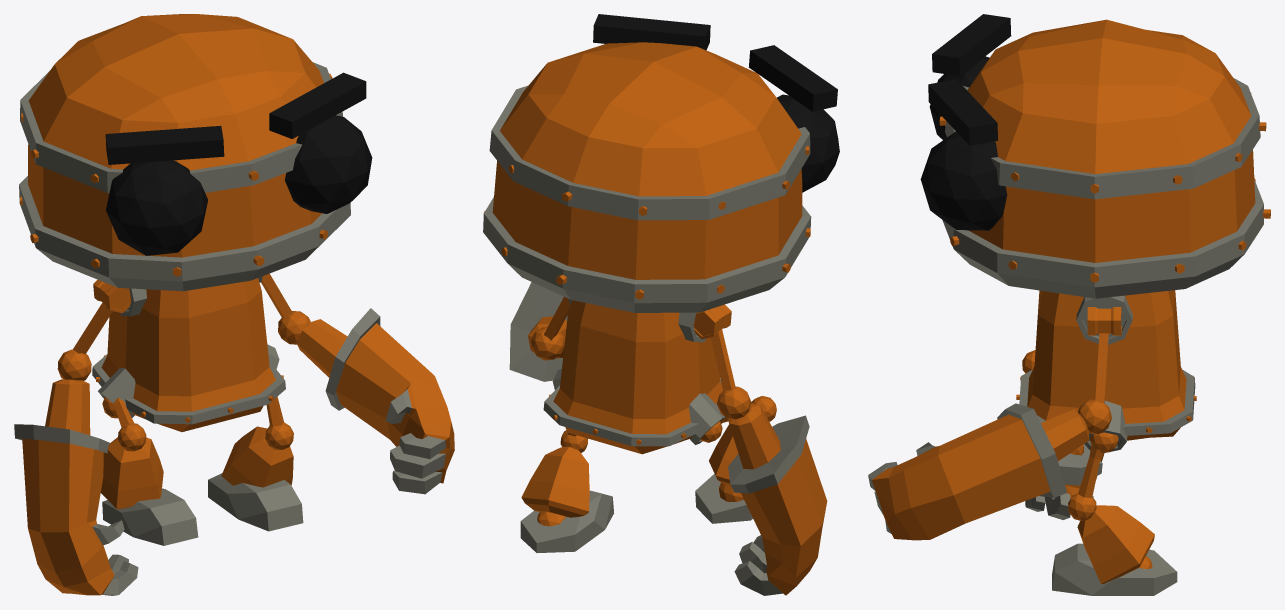
File: Robot_000008.obj
The picture shows the model from 3 angles, left to right: view 1: azimuth 30°, elevation 25°; view 2: azimuth 150°, elevation 25°; view 3: azimuth 270°, elevation 25°; orthographic projection. The views are drawn at different scales.
Visible parts, largest first — view 1: Head_Cylinder, Torso_Cube.001, Hand.R_Cylinder.015, Hand.L_Cylinder.022, Foot.L_Cylinder.014, Foot.R_Cylinder.017, LowerLeg.R_Cylinder.018, LowerLeg.L_Cylinder.012, Arm.R_Cylinder.013, Arm.L_Cylinder.010, Leg.R_Cylinder.019, Leg.L_Cylinder.011 (+1 smaller); view 2: Head_Cylinder, Torso_Cube.001, Hand.R_Cylinder.015, LowerLeg.L_Cylinder.012, Hand.L_Cylinder.022, Foot.L_Cylinder.014, Arm.R_Cylinder.013, Foot.R_Cylinder.017, LowerLeg.R_Cylinder.018, Arm.L_Cylinder.010, Shoulder.R_Cylinder.009; view 3: Head_Cylinder, Torso_Cube.001, Hand.L_Cylinder.022, LowerLeg.L_Cylinder.012, Foot.L_Cylinder.014, Arm.L_Cylinder.010, Leg.L_Cylinder.011, Hand.R_Cylinder.015, Shoulder.L_Cylinder.008, Foot.R_Cylinder.017.
Boxes of the visible parts, bbox=[...] form: Head_Cylinder: bbox=[19, 14, 372, 291]; Torso_Cube.001: bbox=[92, 276, 285, 431]; Hand.R_Cylinder.015: bbox=[14, 379, 138, 595]; Hand.L_Cylinder.022: bbox=[296, 308, 454, 494]; Foot.L_Cylinder.014: bbox=[208, 473, 303, 531]; Foot.R_Cylinder.017: bbox=[102, 488, 198, 545]; LowerLeg.R_Cylinder.018: bbox=[100, 437, 163, 509]; LowerLeg.L_Cylinder.012: bbox=[221, 426, 293, 487]; Arm.R_Cylinder.013: bbox=[57, 302, 112, 380]; Arm.L_Cylinder.010: bbox=[261, 273, 310, 344]; Leg.R_Cylinder.019: bbox=[112, 397, 146, 451]; Leg.L_Cylinder.011: bbox=[265, 396, 293, 449]; Head_Cylinder: bbox=[483, 14, 839, 312]; Torso_Cube.001: bbox=[543, 299, 725, 454]; Hand.R_Cylinder.015: bbox=[728, 403, 827, 595]; LowerLeg.L_Cylinder.012: bbox=[521, 446, 589, 526]; Hand.L_Cylinder.022: bbox=[509, 282, 567, 381]; Foot.L_Cylinder.014: bbox=[520, 490, 613, 552]; Arm.R_Cylinder.013: bbox=[710, 329, 751, 419]; Foot.R_Cylinder.017: bbox=[695, 474, 752, 523]; LowerLeg.R_Cylinder.018: bbox=[709, 424, 743, 501]; Arm.L_Cylinder.010: bbox=[531, 297, 569, 360]; Shoulder.R_Cylinder.009: bbox=[693, 304, 731, 339]; Head_Cylinder: bbox=[920, 14, 1270, 298]; Torso_Cube.001: bbox=[1016, 290, 1196, 452]; Hand.L_Cylinder.022: bbox=[868, 403, 1089, 540]; LowerLeg.L_Cylinder.012: bbox=[1077, 505, 1154, 583]; Foot.L_Cylinder.014: bbox=[1052, 543, 1177, 595]; Arm.L_Cylinder.010: bbox=[1078, 333, 1111, 434]; Leg.L_Cylinder.011: bbox=[1068, 444, 1102, 521]; Hand.R_Cylinder.015: bbox=[1025, 444, 1104, 519]; Shoulder.L_Cylinder.008: bbox=[1087, 307, 1121, 335]; Foot.R_Cylinder.017: bbox=[1058, 444, 1102, 485].
Bounding box in the file's own units: 3.04 × 4.47 × 3.05.
